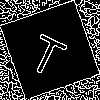T: (25, 25, 72, 79)
